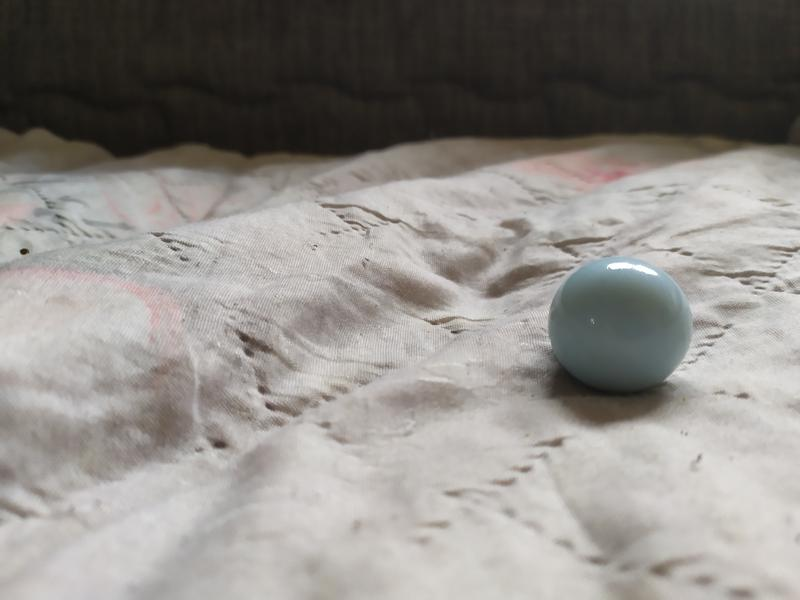Warning: (545, 253, 698, 398)
